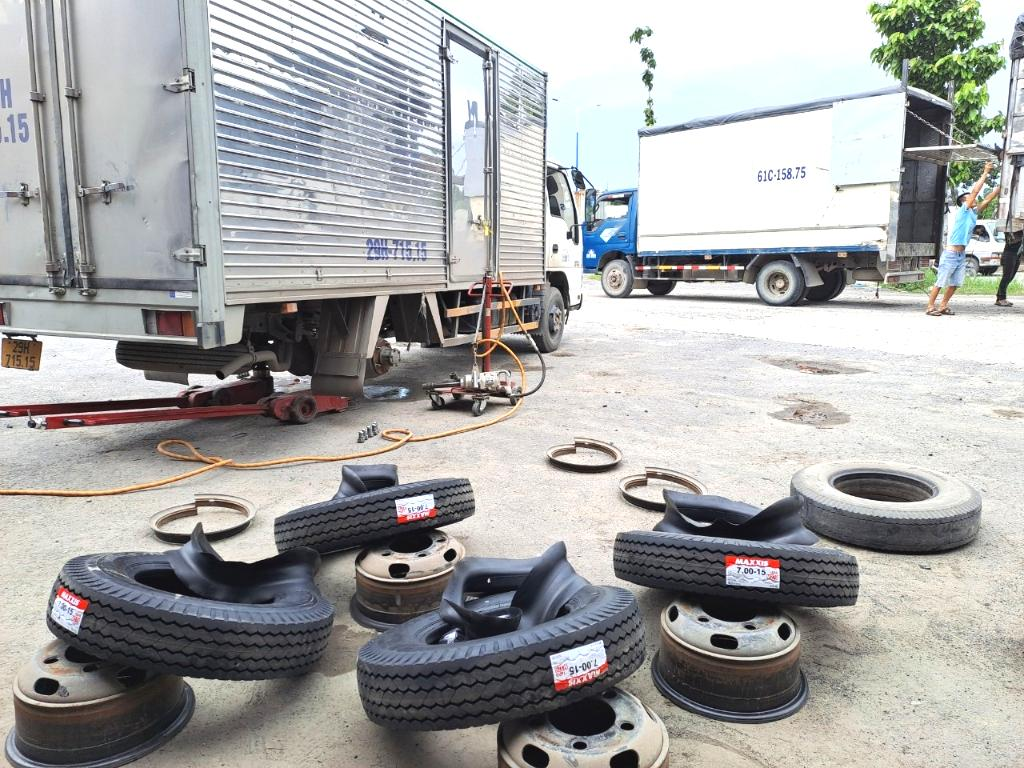ROAD_OBSTACLE: (350, 560, 630, 730), (45, 540, 330, 670), (600, 500, 840, 610), (770, 460, 960, 555), (265, 475, 465, 555)
